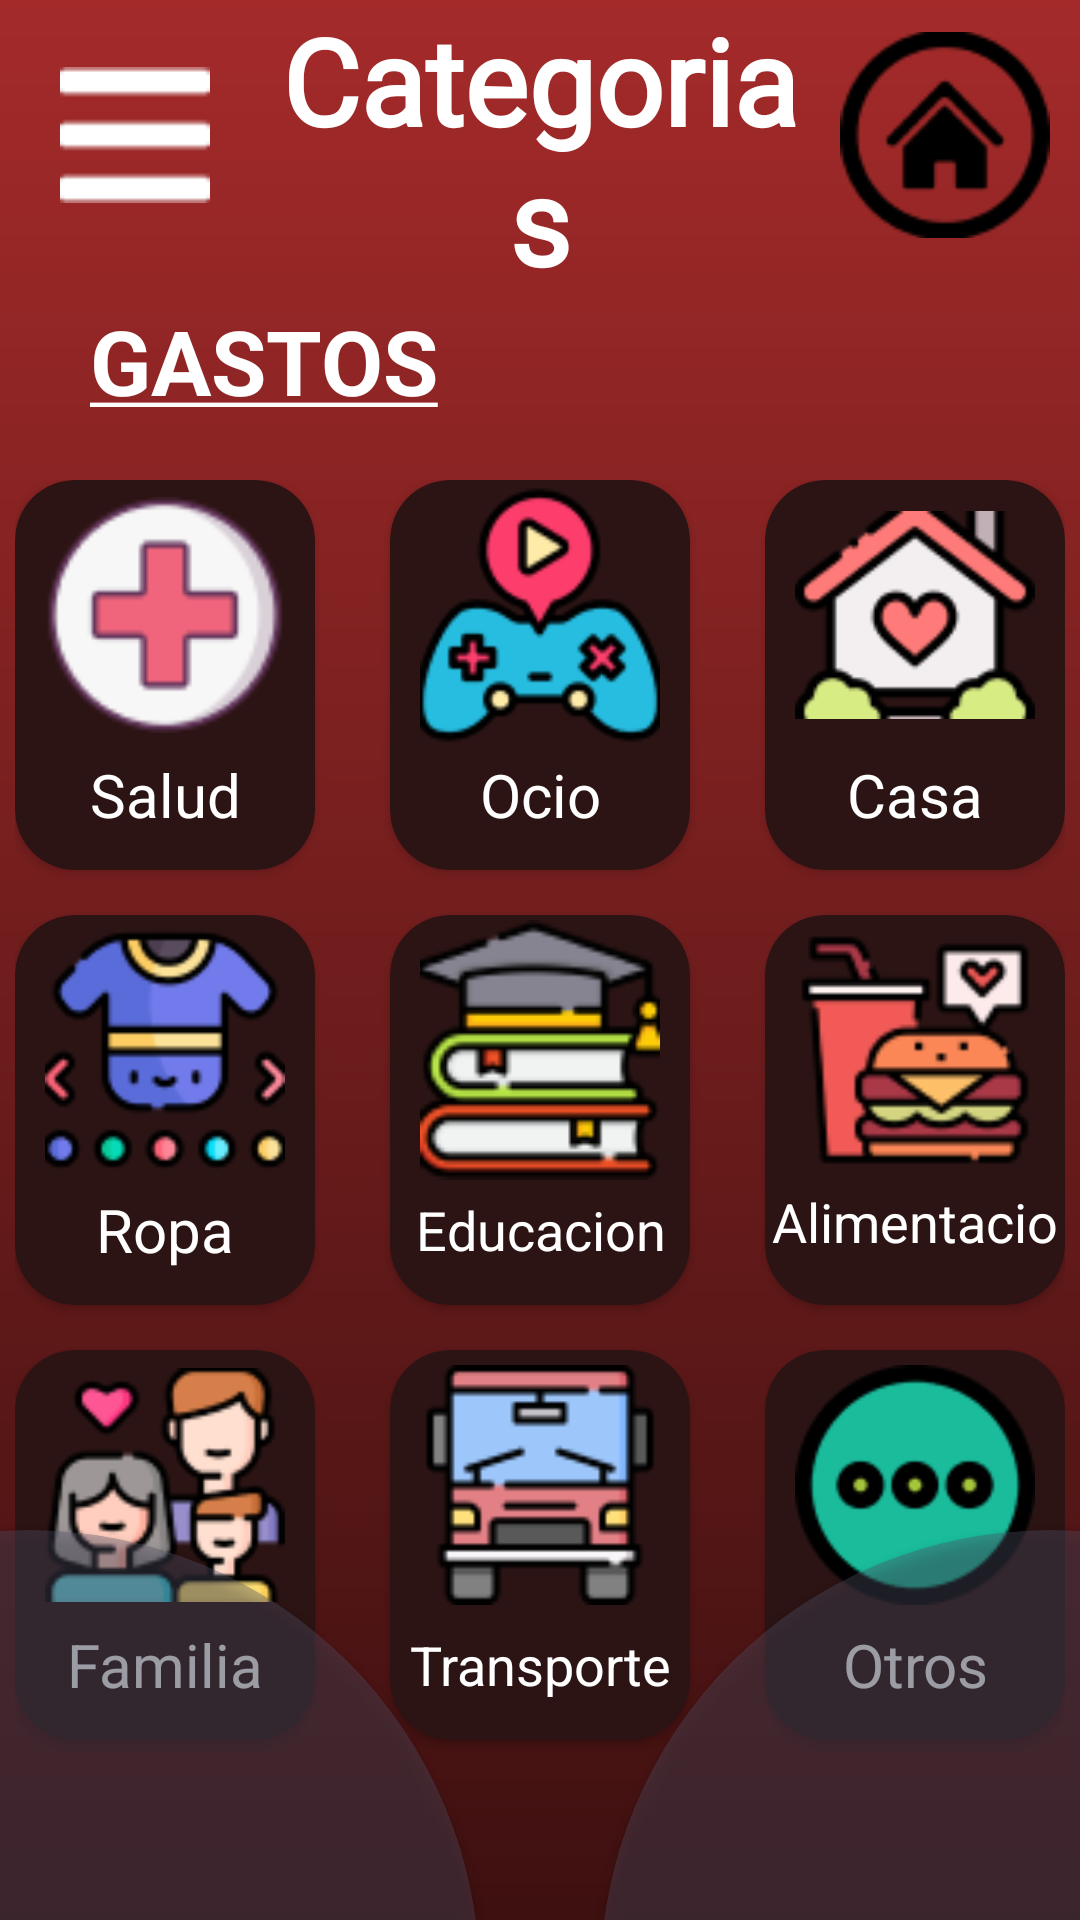

Named icons in this screenshot (1080px×1920px) and their centers, (x,y):
casitawaaa: (945,135)
cruz: (165,615)
juegos: (540,615)
lineas: (135,135)
puntos: (915,1485)
